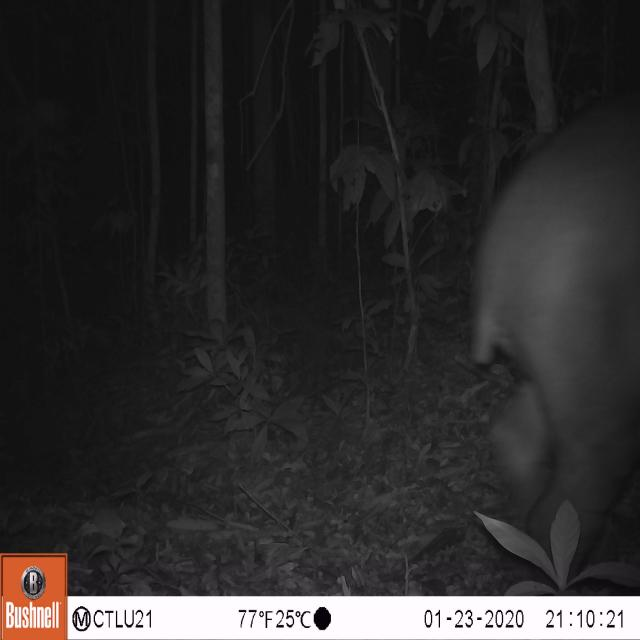Lowland Tapir: (464, 87, 640, 579)
